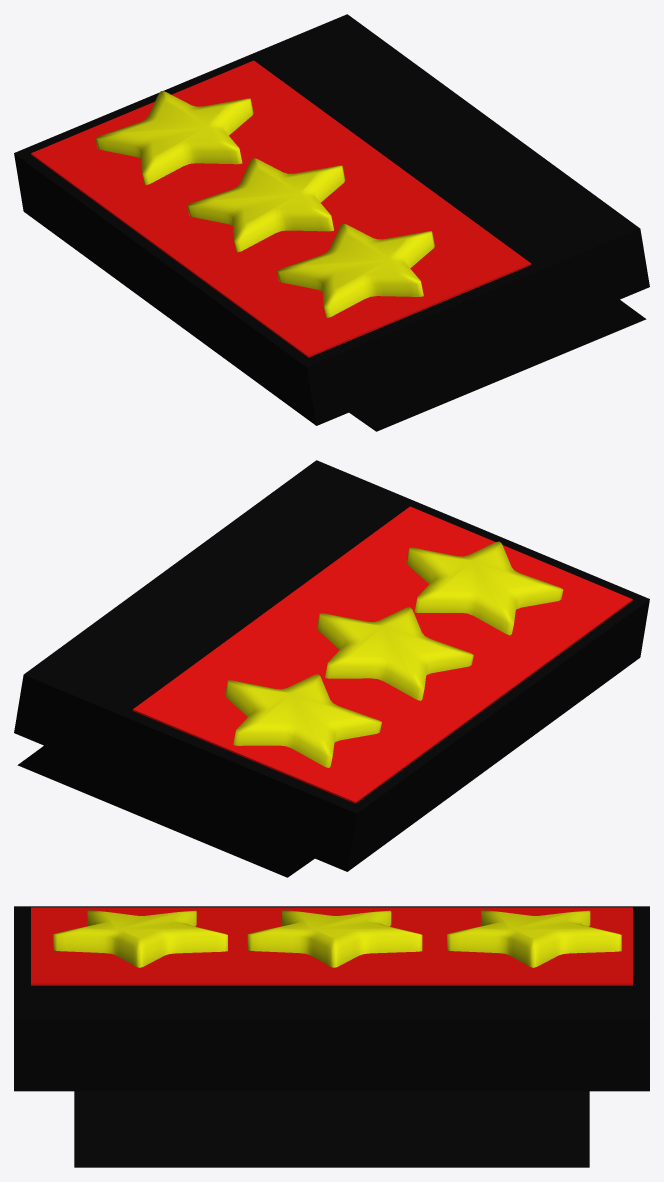
The model's file is Controls.fbx.
3 views of the same model, one above another, from view 1: azimuth 30°, elevation 25°; view 2: azimuth 150°, elevation 25°; view 3: azimuth 270°, elevation 25° (orthographic). The views are drawn at different scales.
Parts seen in each view (by area): view 1: Cube.046, Cube.048, SurfaceStar.001, SurfaceStar.002, SurfaceStar; view 2: Cube.046, Cube.048, SurfaceStar.001, SurfaceStar, SurfaceStar.002; view 3: Cube.046, Cube.048, SurfaceStar.001, SurfaceStar, SurfaceStar.002.
Part boxes in pixels (bbox=[...]): Cube.046: bbox=[14, 14, 649, 431]; Cube.048: bbox=[31, 60, 531, 357]; SurfaceStar.001: bbox=[187, 158, 345, 252]; SurfaceStar.002: bbox=[277, 223, 434, 317]; SurfaceStar: bbox=[95, 91, 253, 184]; Cube.046: bbox=[14, 460, 649, 877]; Cube.048: bbox=[132, 506, 632, 803]; SurfaceStar.001: bbox=[316, 607, 473, 700]; SurfaceStar: bbox=[225, 674, 381, 767]; SurfaceStar.002: bbox=[406, 541, 563, 635]; Cube.046: bbox=[14, 906, 649, 1167]; Cube.048: bbox=[31, 907, 632, 985]; SurfaceStar.001: bbox=[247, 910, 422, 967]; SurfaceStar: bbox=[447, 910, 621, 967]; SurfaceStar.002: bbox=[53, 910, 227, 967].
Bounding box in the file's own units: 20.05 × 8.65 × 27.69.
